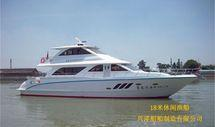yacht: (17, 35, 202, 101)
